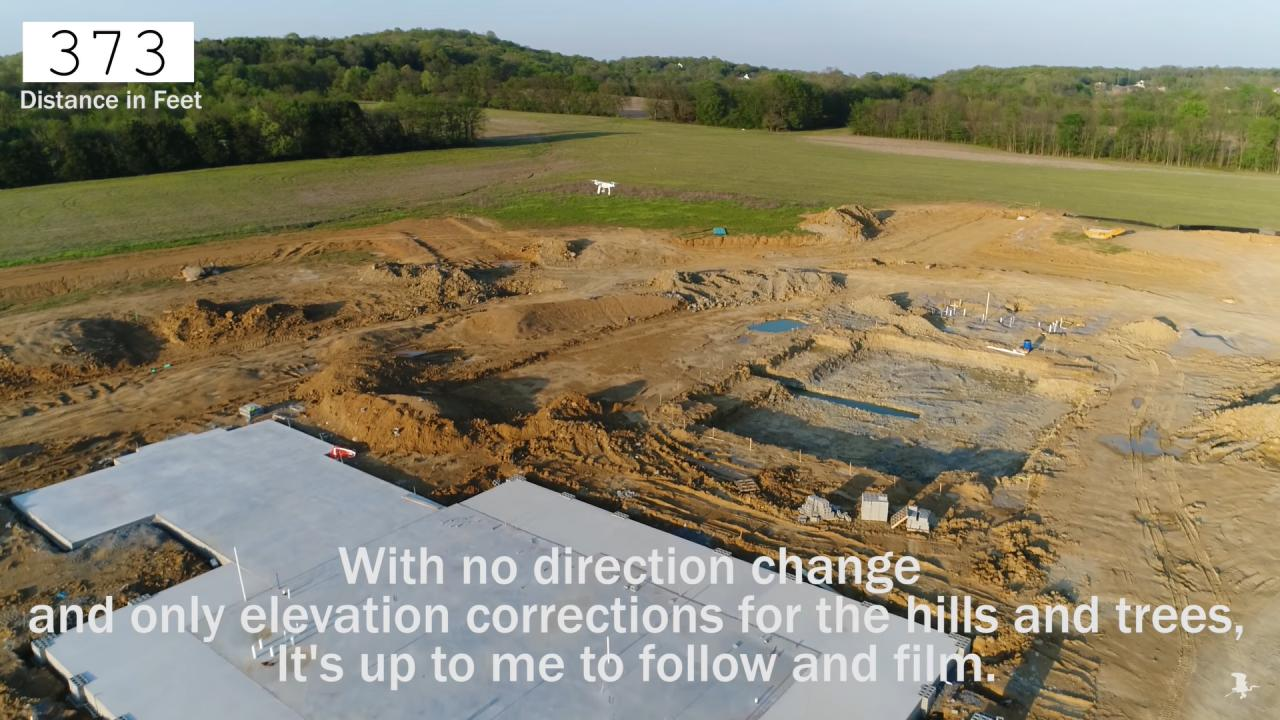Drone: (584, 172, 624, 202)
